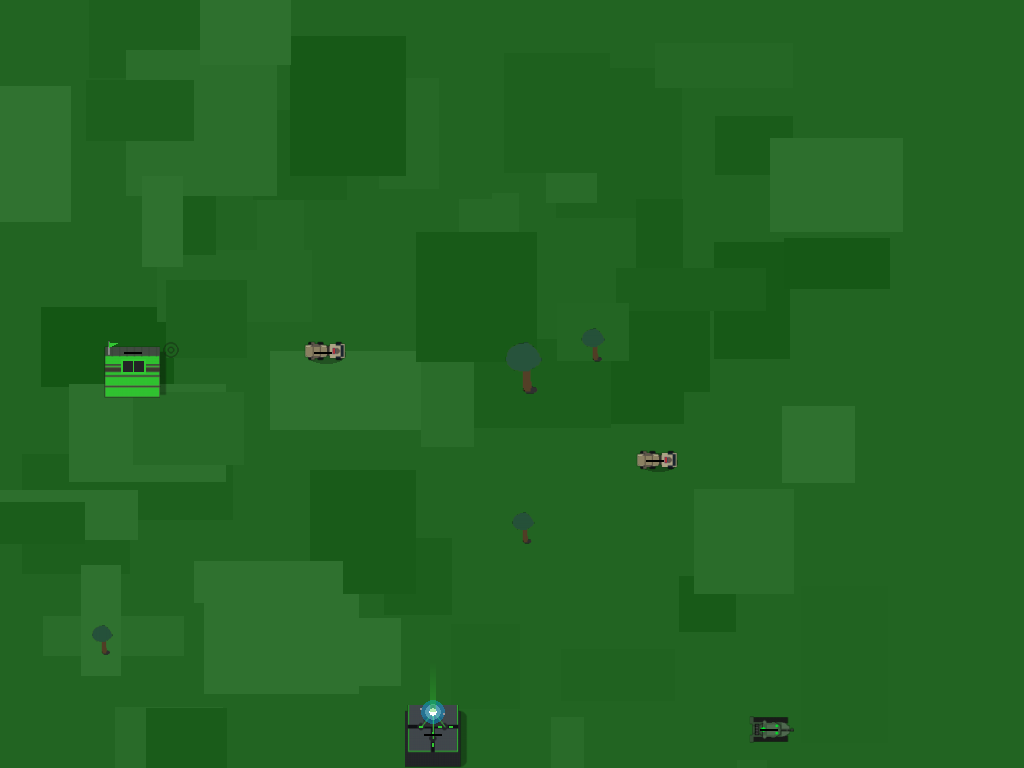Barracks: (96, 314, 169, 387)
HIMARS: (633, 438, 675, 480), (301, 329, 343, 371)
M1A2_rus: (745, 705, 791, 751)
ResearchCenter: (399, 699, 466, 766)
